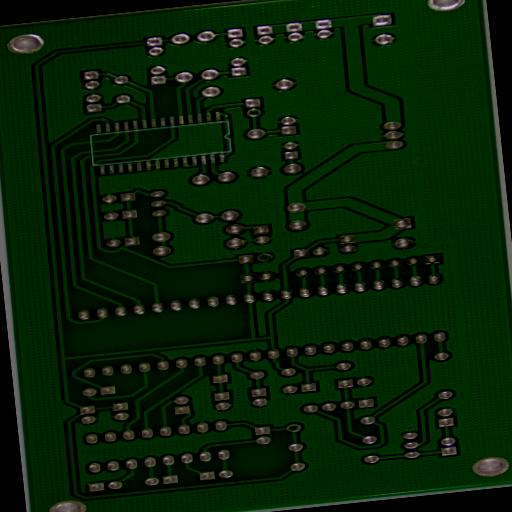missing_hole: (255, 252, 274, 264), (244, 107, 262, 119), (284, 422, 302, 434)
